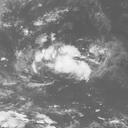cyclone: (30, 42, 91, 84)
